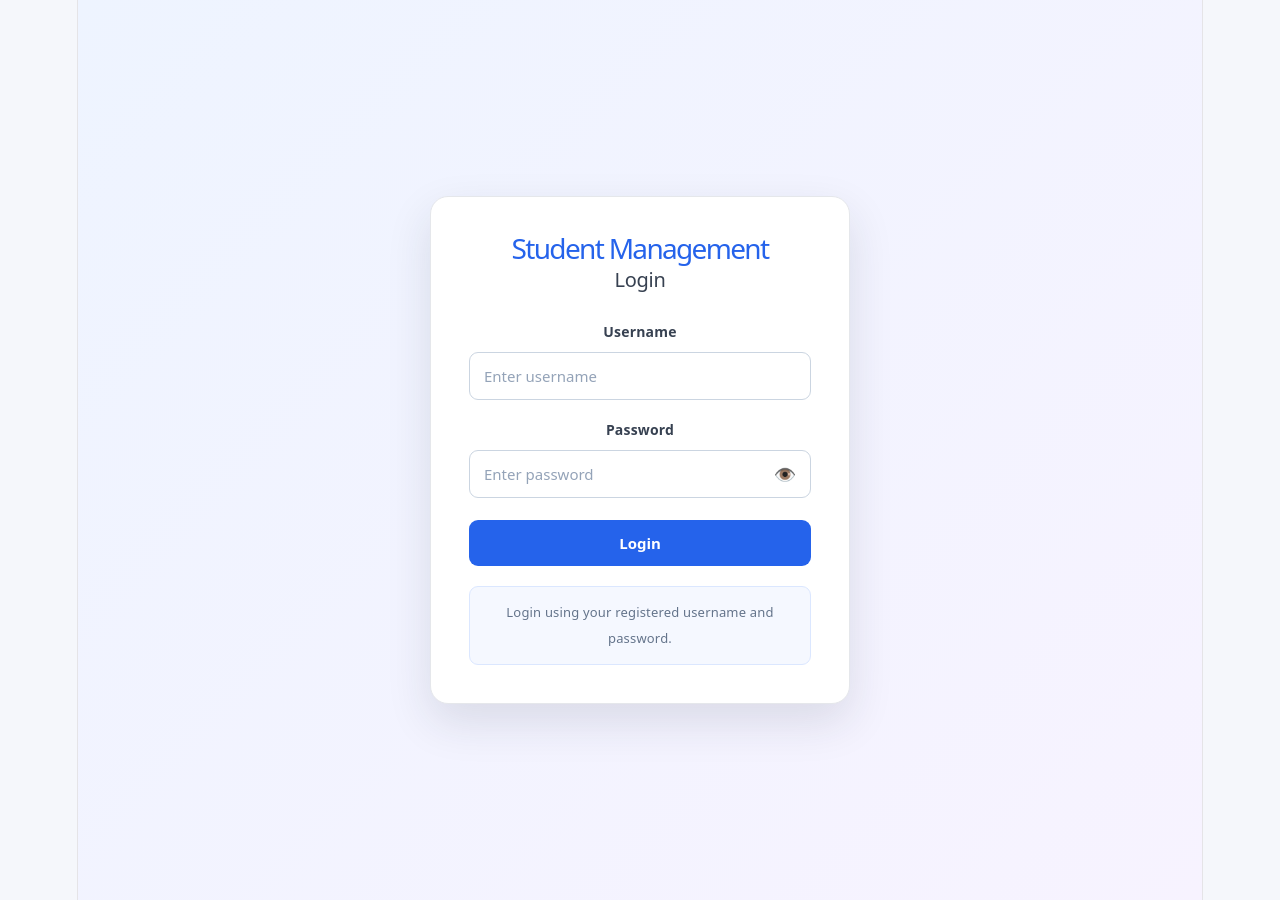
Test: Student registration form › displays all student registration fields
The width and height of the screenshot is (1280, 900).
Type "testuser" into the field labelled "Username".
click(640, 376); type("testuser")  # box [469,352,811,400]
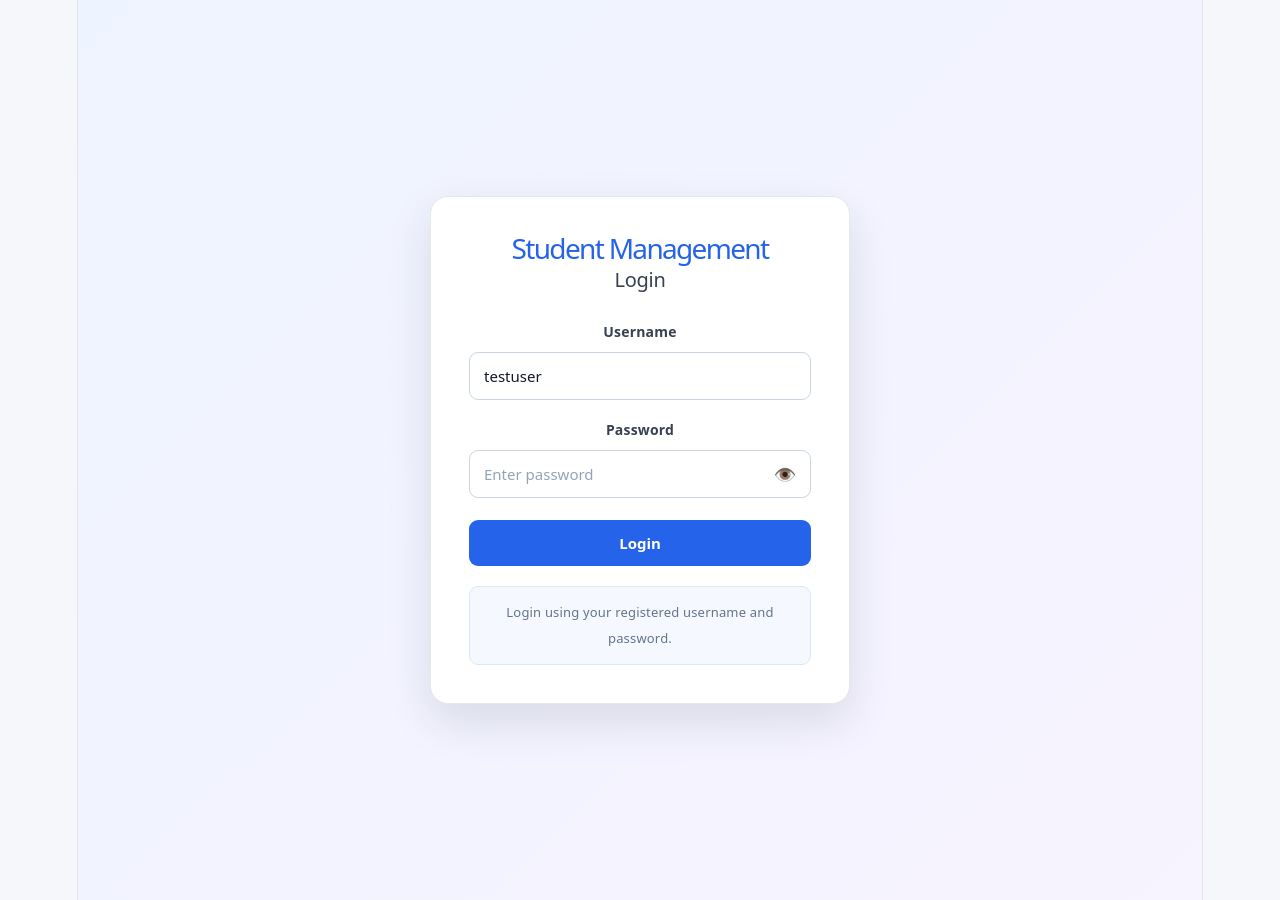
Type "correctpassword" into the password field labelled "Password".
click(640, 474); type("correctpassword")  # box [469,450,811,498]
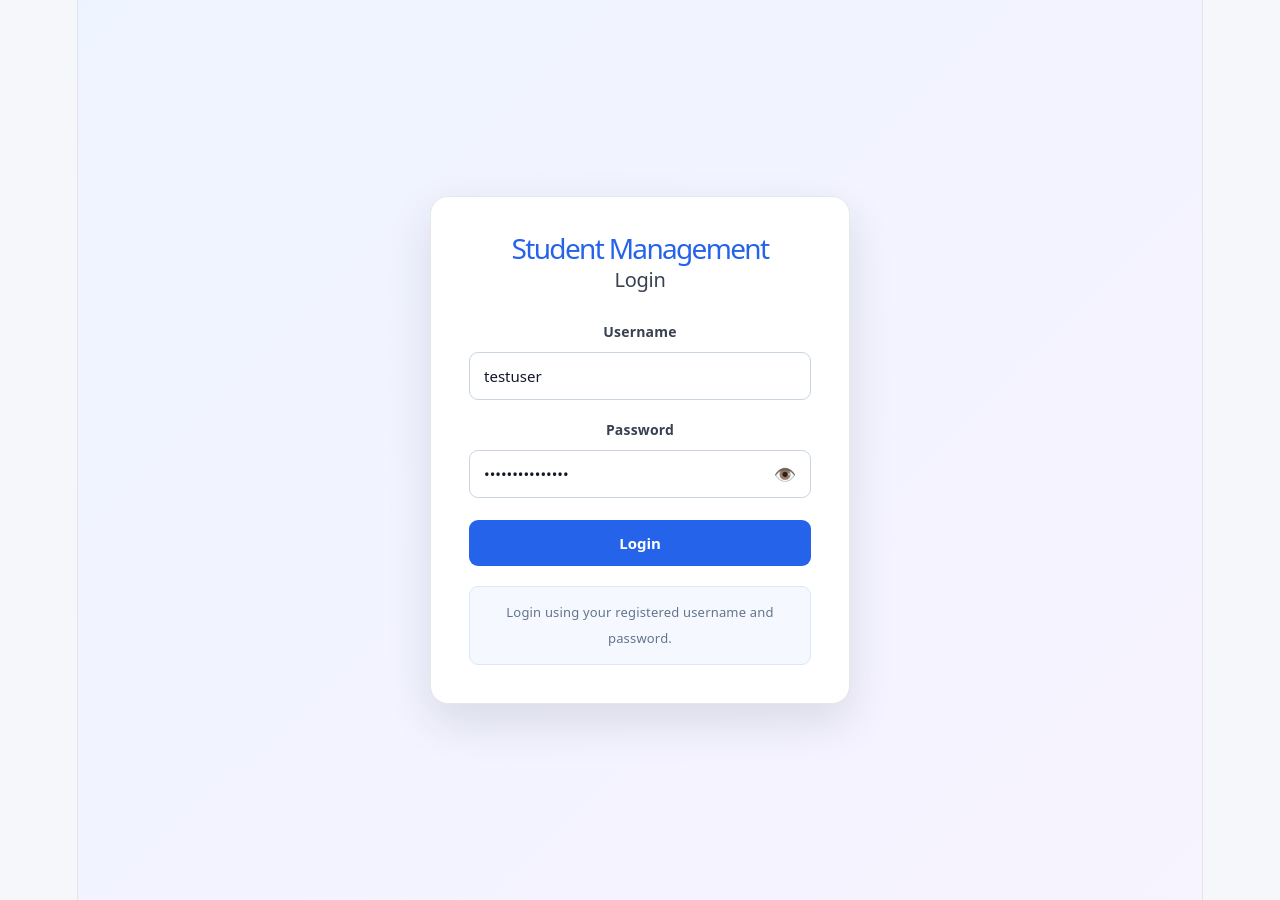
Click the button "Login".
click(640, 543)  # box [469,520,811,566]
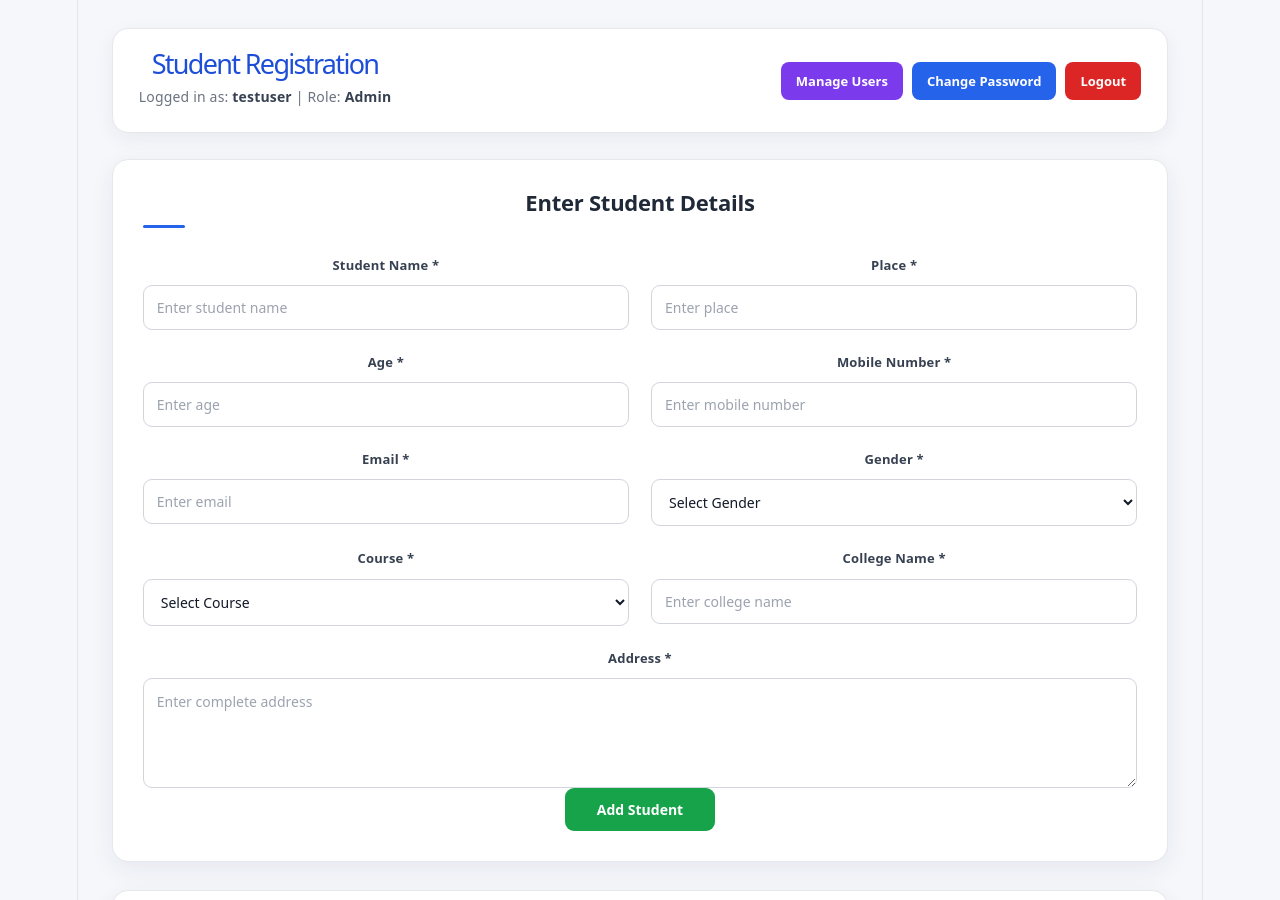
Now the heading "Student Registration" is shown, box [139,51,391,77]
Now the field labelled "Student Name *" is shown, box [143,285,629,330]
Now the field labelled "Place *" is shown, box [651,285,1137,330]
